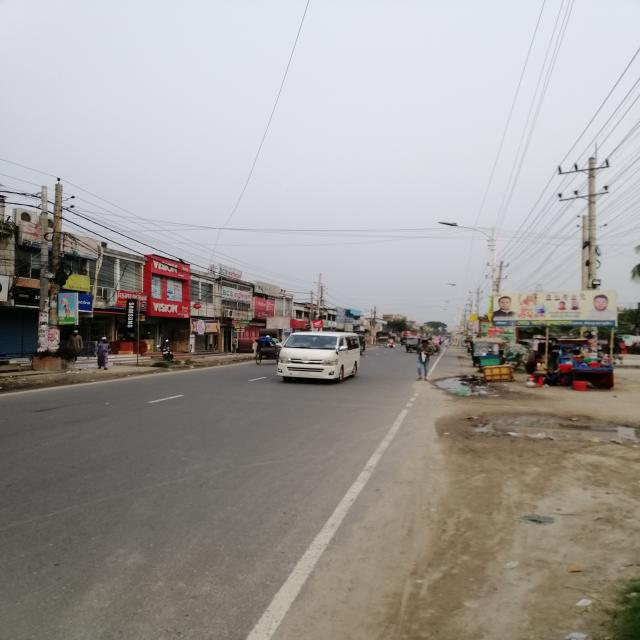Micro-Bus: (275, 330, 363, 386)
